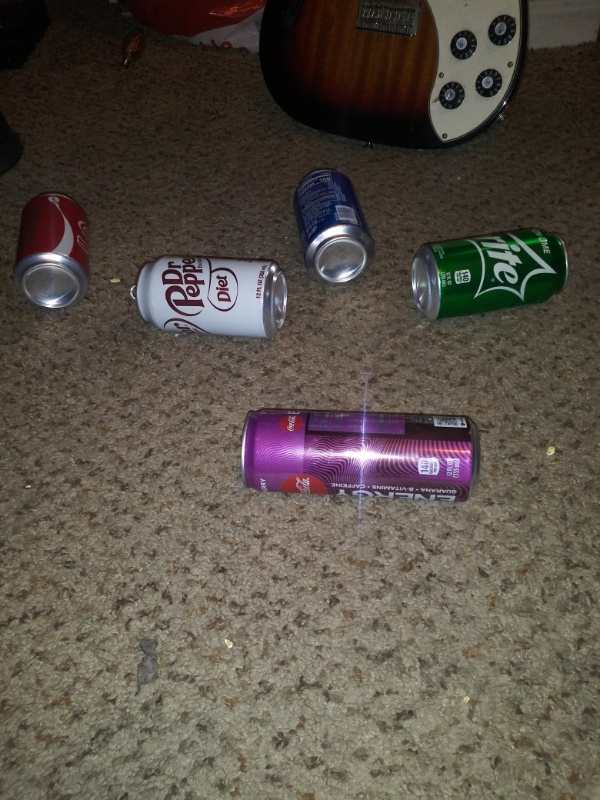can: (238, 405, 484, 507), (408, 225, 572, 322), (125, 254, 292, 344), (290, 165, 378, 288), (13, 189, 94, 315)
